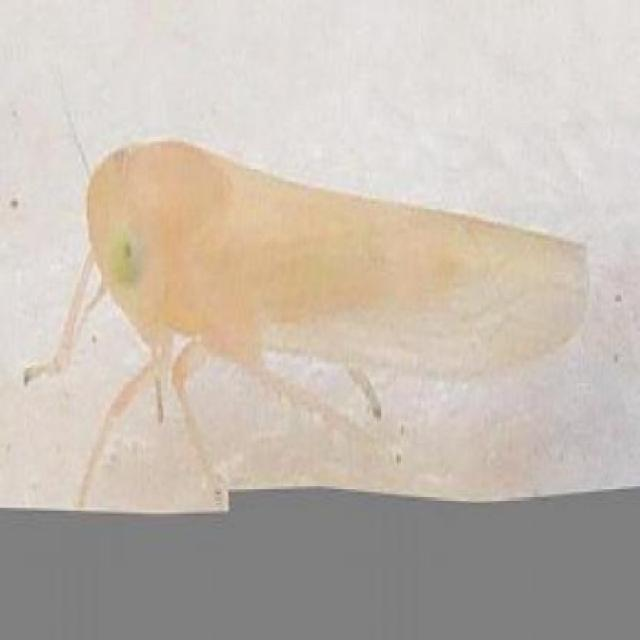green-leafhopper: (82, 140, 592, 400)
